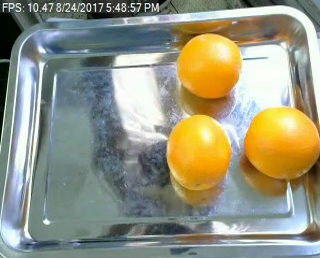Orange: (245, 107, 319, 181), (166, 113, 232, 189), (176, 34, 242, 98)
